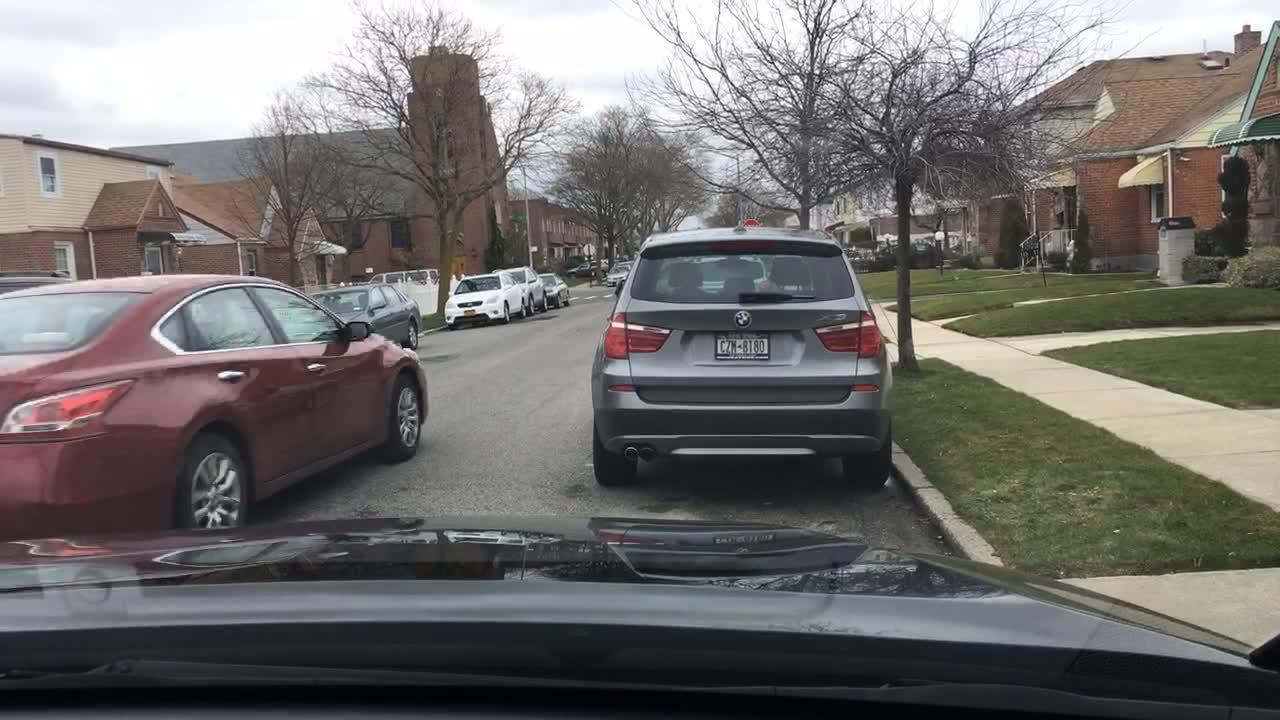bmw: (731, 309, 757, 329)
